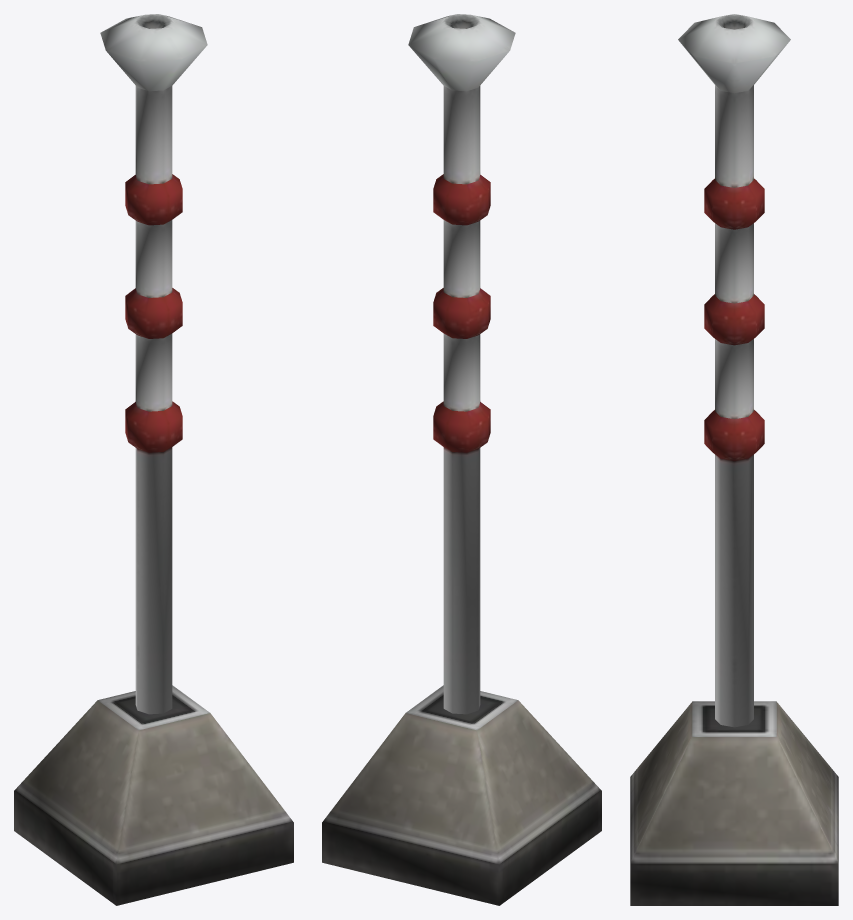
File: Part - Extras 07-_WLL0ehg.glb
3 views of the same model, side by side, from view 1: azimuth 30°, elevation 25°; view 2: azimuth 150°, elevation 25°; view 3: azimuth 270°, elevation 25° (orthographic).
Parts seen in each view (by area): view 1: Extras_07 (×2); view 2: Extras_07 (×2); view 3: Extras_07 (×2).
Part boxes in pixels (<box>): Extras_07 (×2): <box>14,14,293,905</box>; Extras_07 (×2): <box>322,14,601,905</box>; Extras_07 (×2): <box>630,14,838,905</box>.
Bounding box in the file's own units: 1.28 × 5.7 × 1.28.
1 material, 1 textured.
